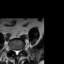CCS_normal: (15, 47, 17, 57)
LFS_stenosis: (19, 46, 22, 52)
LLS_normal: (17, 47, 19, 55)
RFS_stenosis: (11, 46, 13, 53)
RLS_normal: (13, 47, 15, 54)
